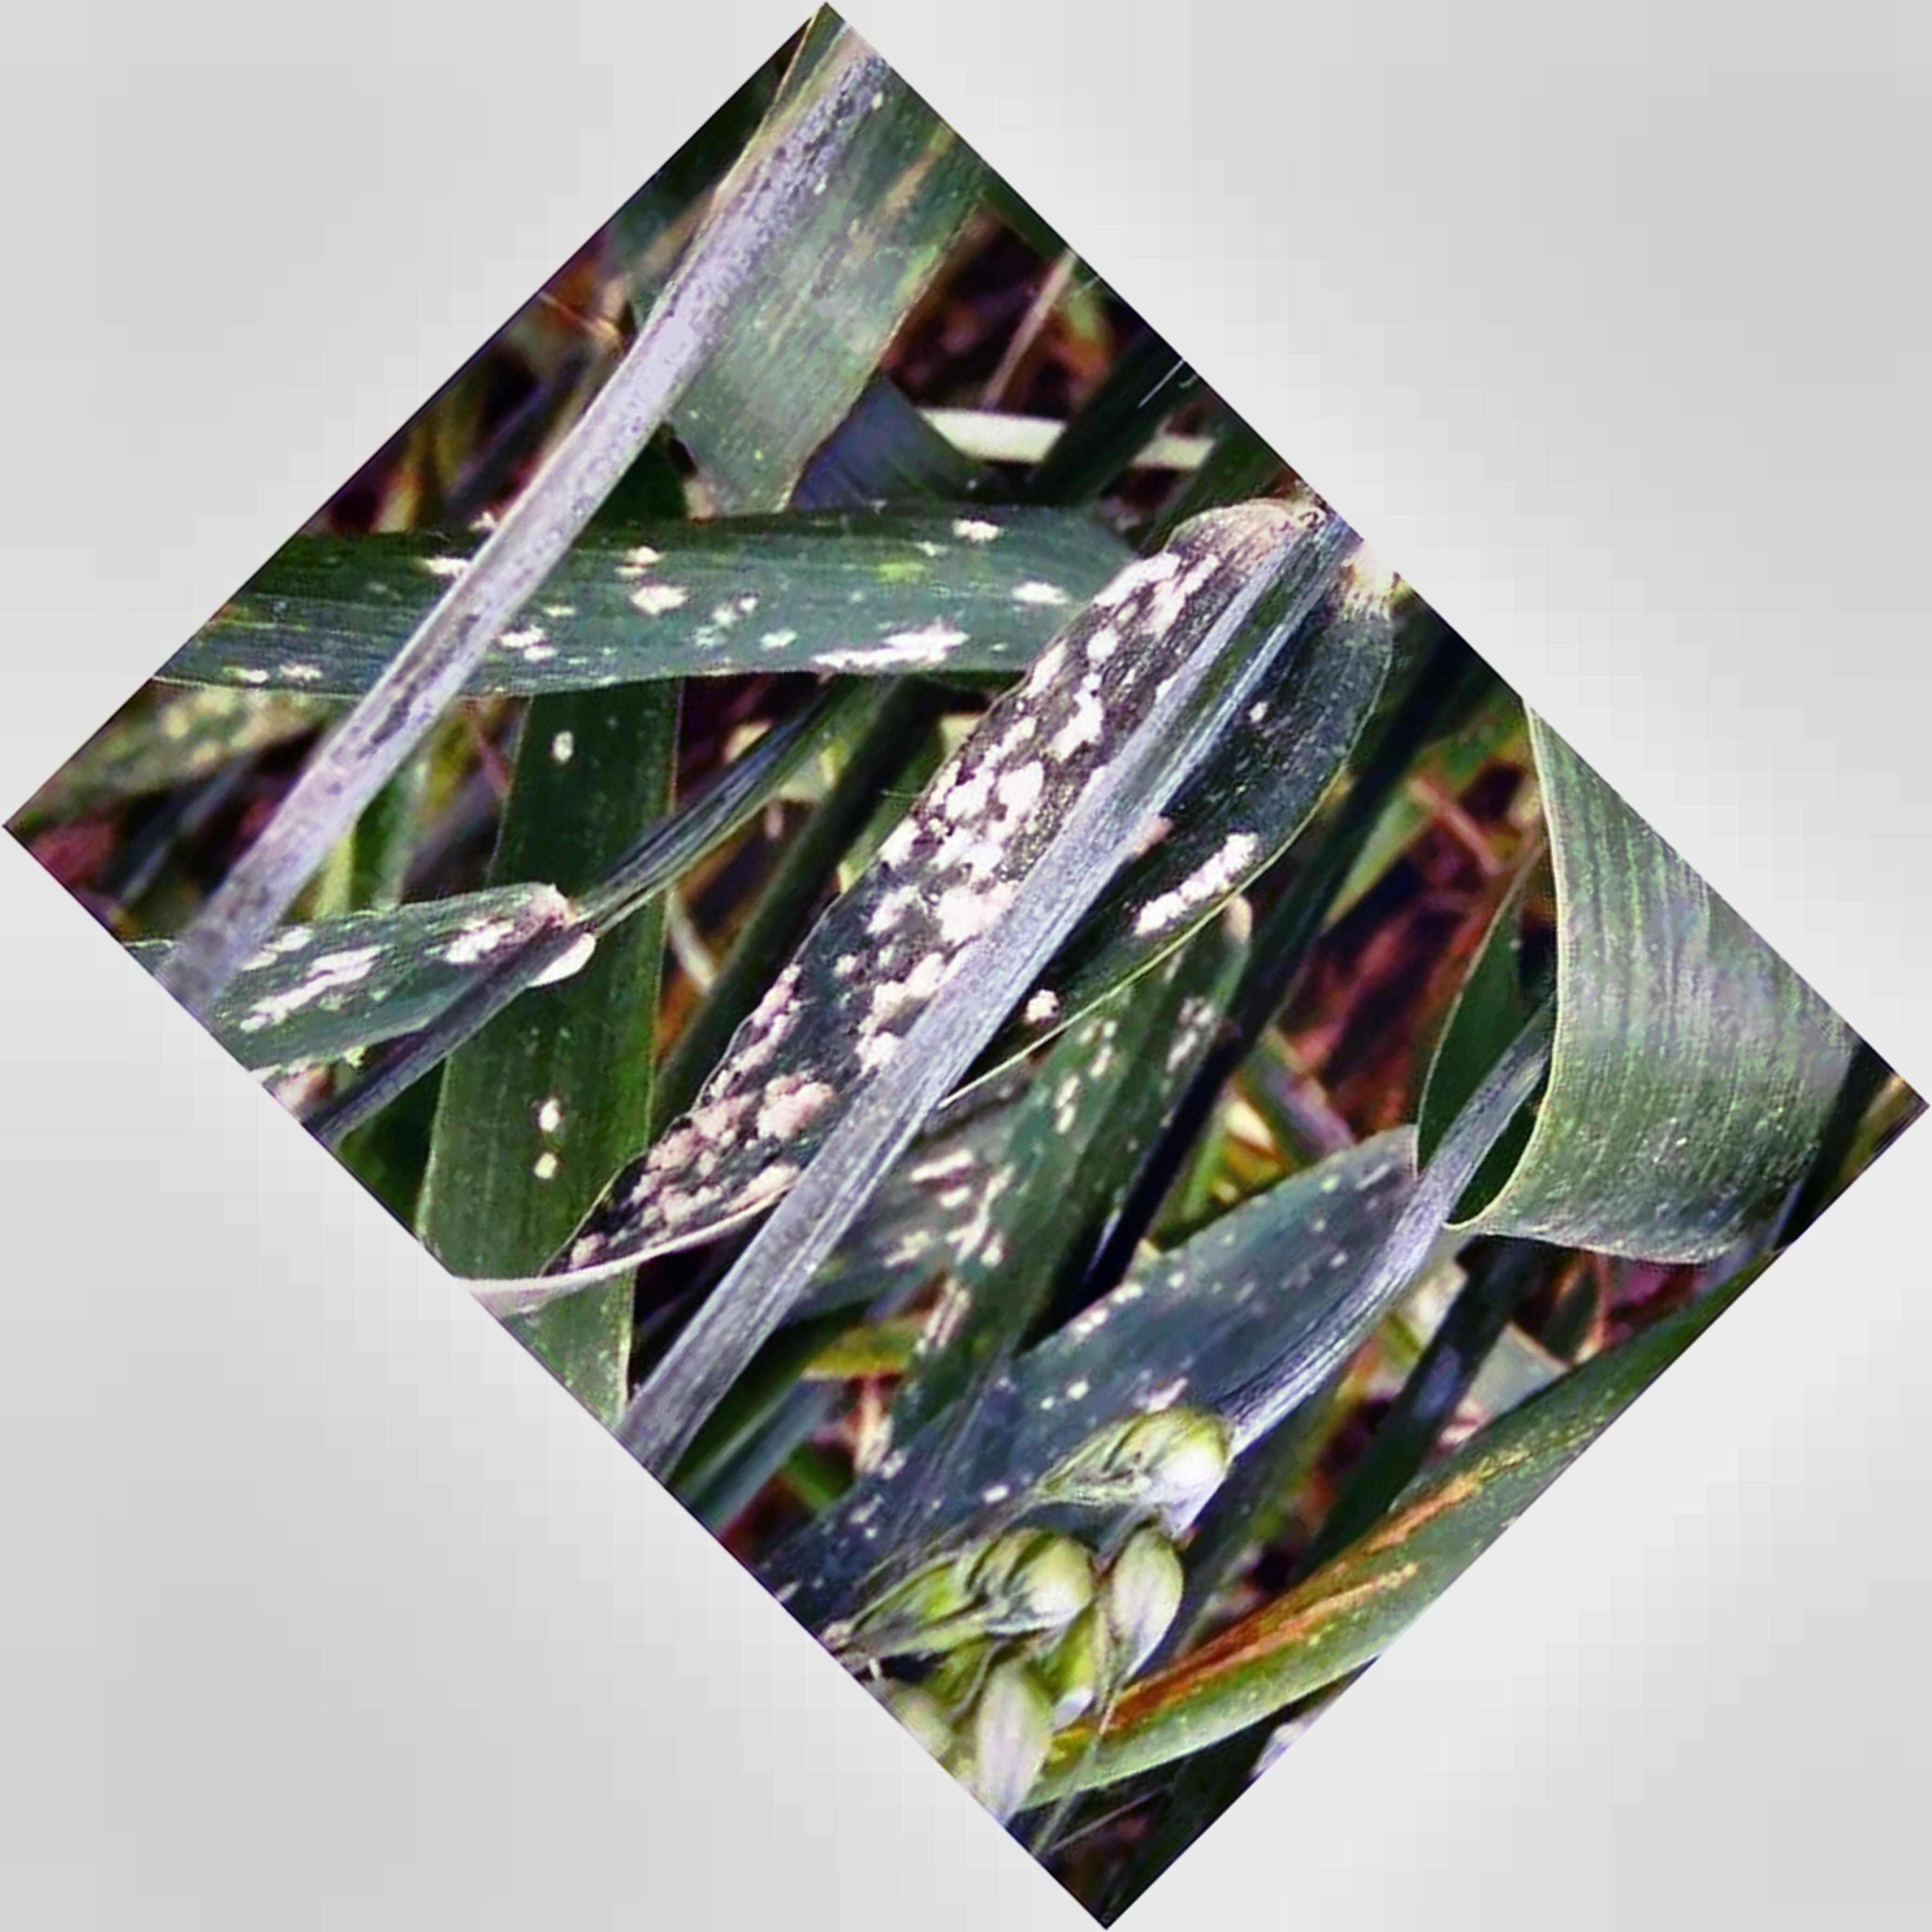Powdery Mildew: (628, 548, 1223, 1240)
